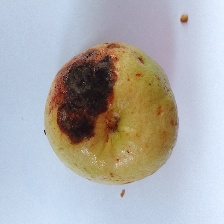guava: (37, 37, 200, 202)
